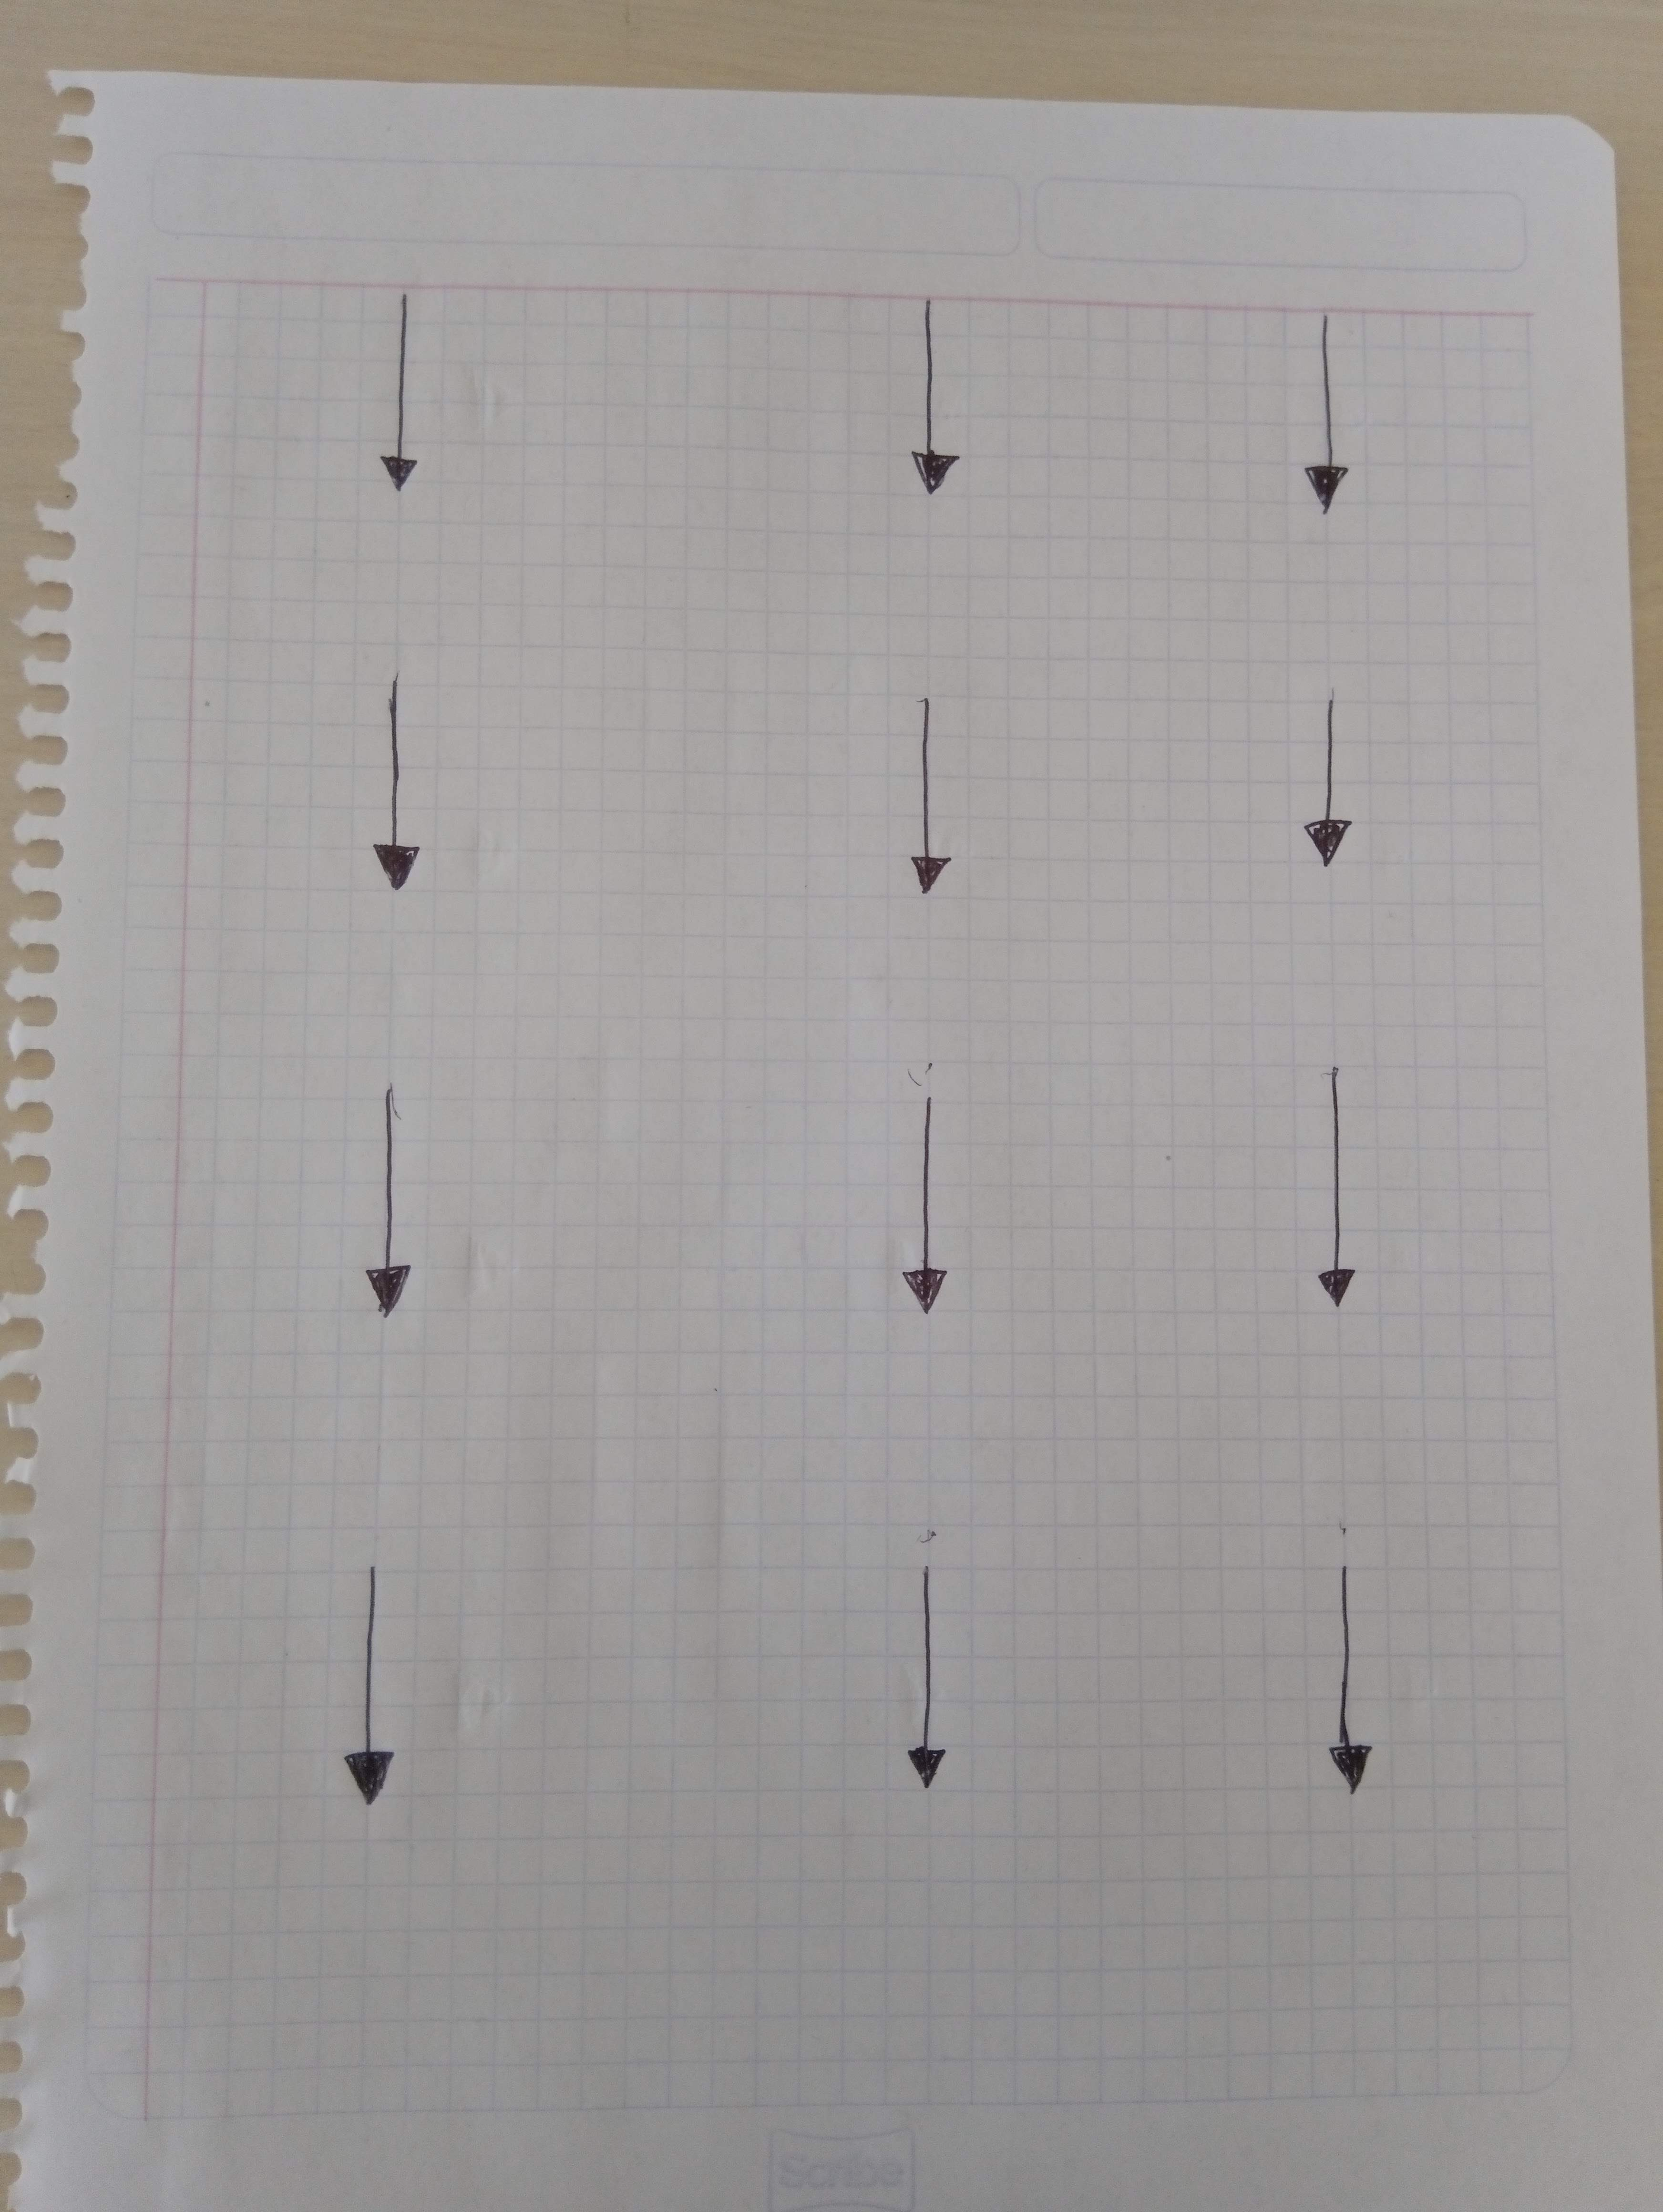arrow_line_down: (314, 1084, 458, 1306), (318, 1545, 416, 1828), (1296, 1054, 1392, 1325), (872, 1077, 966, 1322), (908, 288, 1011, 512), (1300, 1561, 1396, 1798), (873, 1550, 963, 1798), (1280, 321, 1373, 539), (353, 677, 438, 908), (884, 702, 976, 908), (369, 283, 449, 505), (1291, 697, 1370, 880)
